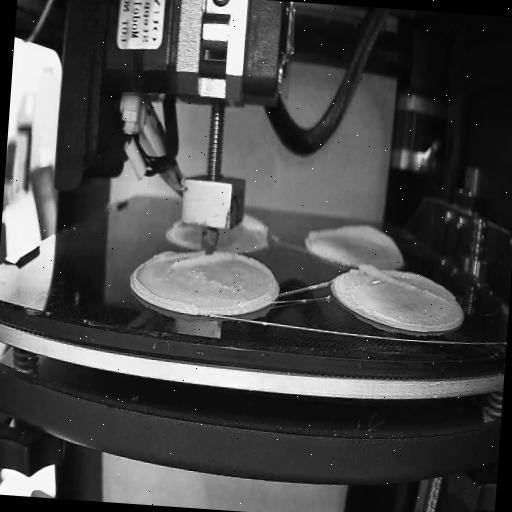over_extrusion: (358, 261, 449, 305), (305, 220, 402, 258), (232, 254, 282, 312), (156, 248, 229, 276), (242, 213, 274, 244)
